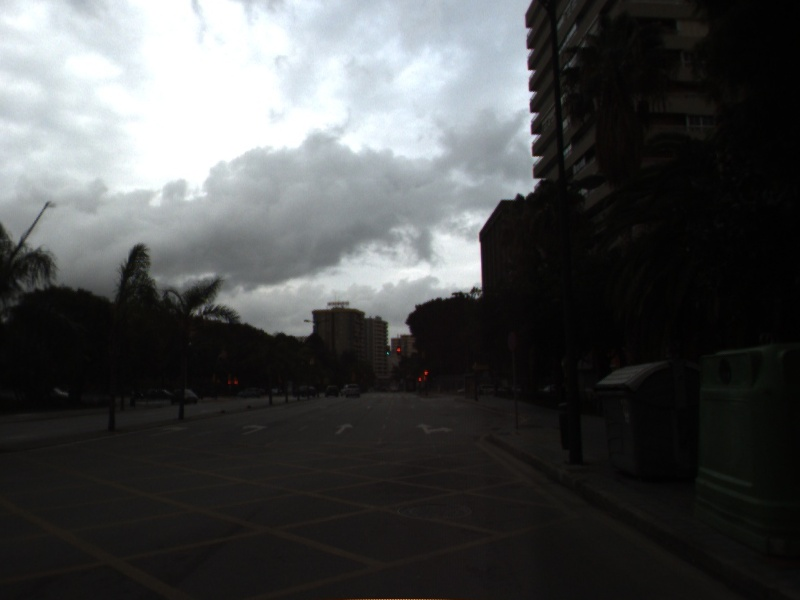LEFT: (146, 422, 191, 438), (237, 421, 270, 437)
STRAIGHT: (331, 420, 356, 436)
STRAIGHT_RIGHT: (413, 420, 455, 436)
